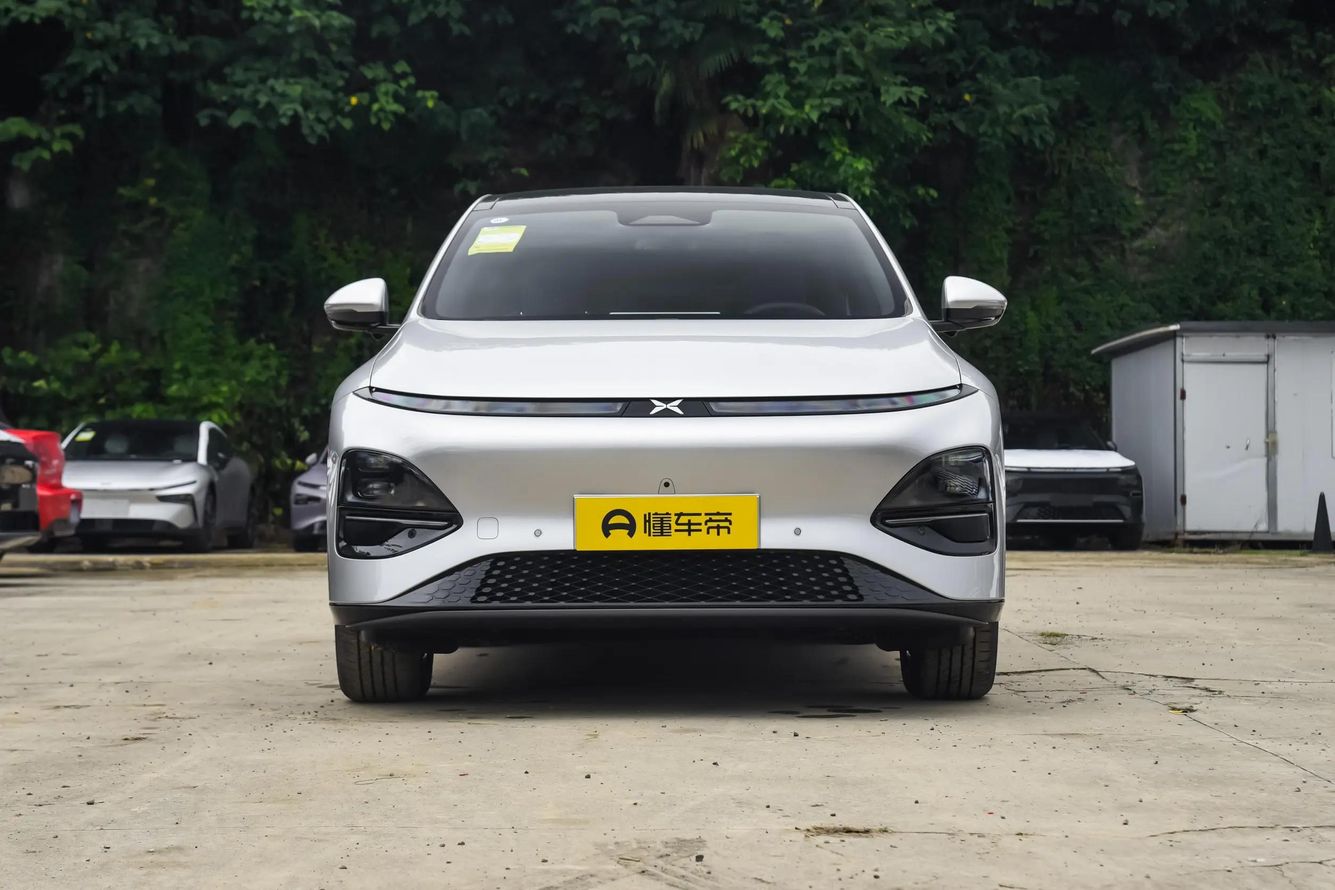XPeng Motors: (650, 400, 683, 415)
